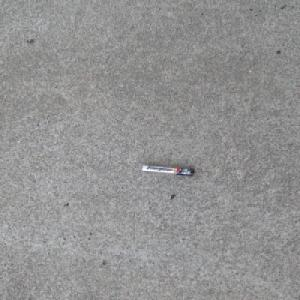Battery: (140, 164, 195, 176)
